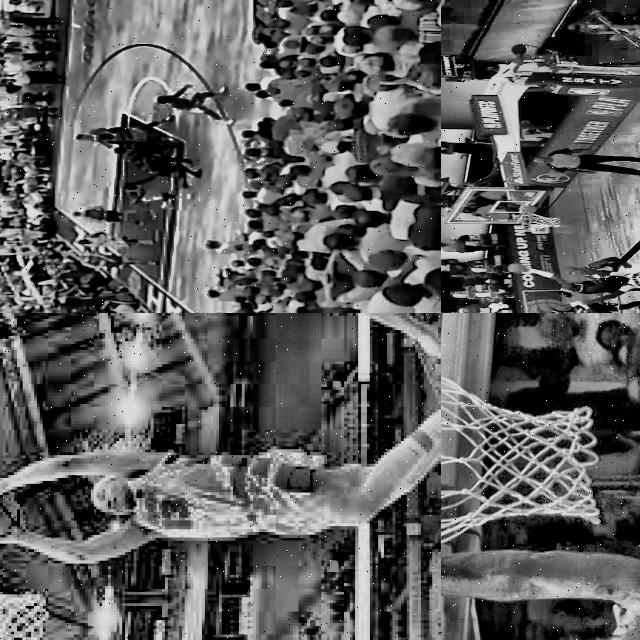Basketball: (0, 491, 23, 537), (506, 262, 529, 271)
